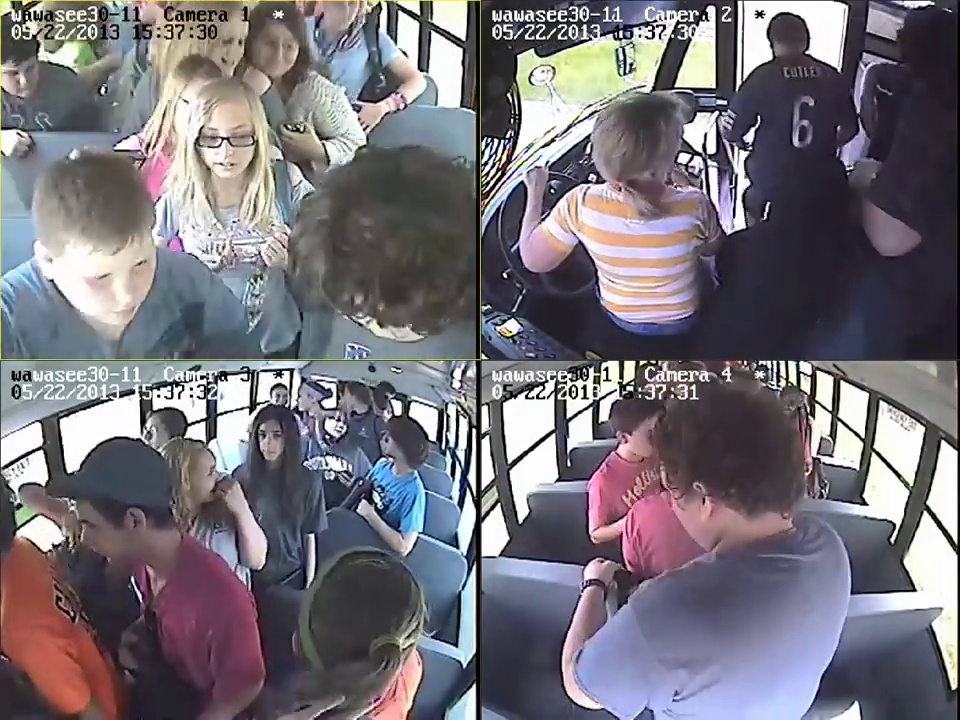face: (61, 242, 162, 325), (196, 118, 259, 176), (79, 498, 115, 574), (253, 30, 306, 72), (251, 417, 291, 462), (329, 412, 349, 438), (272, 386, 290, 407)
